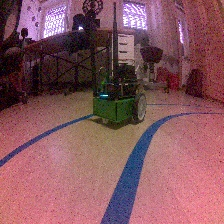rob: (92, 64, 147, 125)
